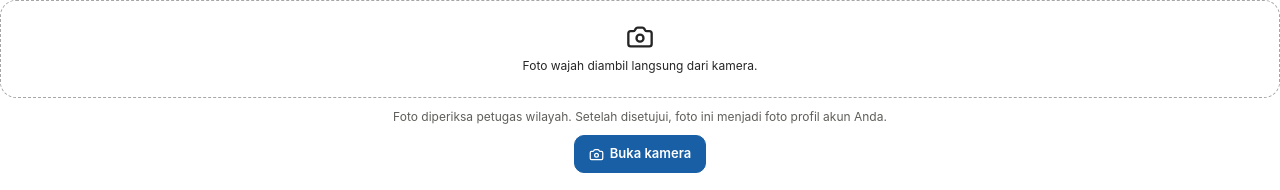
CameraCapture › explains what to do when the camera cannot be opened
Click the button "Buka kamera".
click(640, 154)  # box [574,135,706,173]
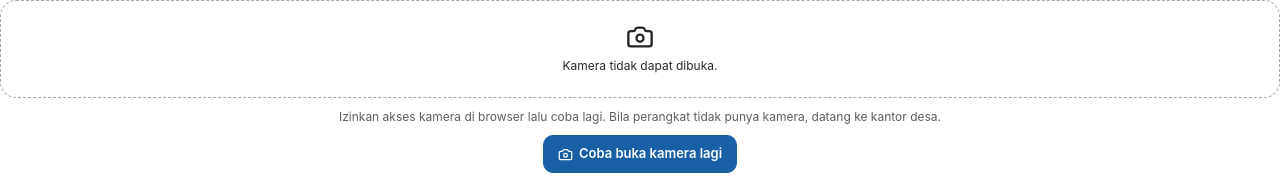
Now the message shows "Izinkan akses kamera", box [339,109,941,124]
Now the button "Coba buka kamera lagi" is shown, box [543,135,737,173]
